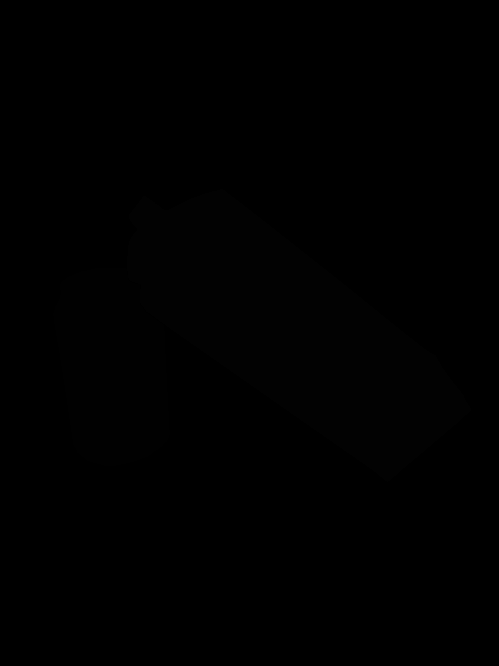can: (50, 263, 175, 471)
carton: (122, 186, 473, 487)
